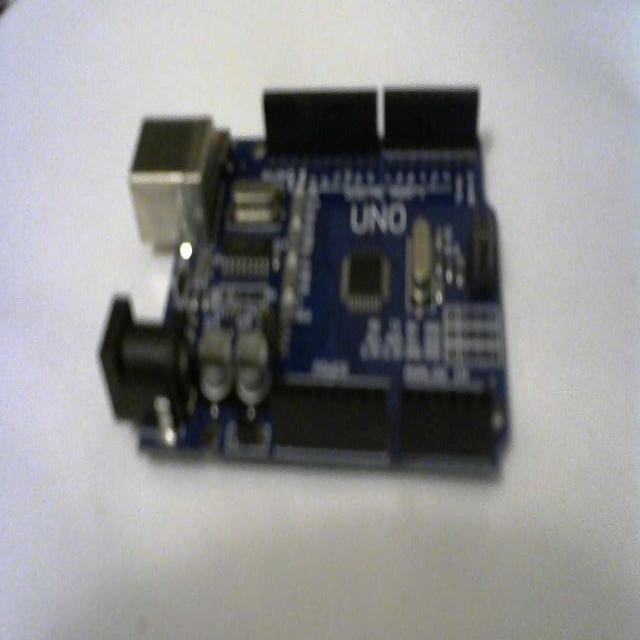arduino: (95, 72, 518, 498)
